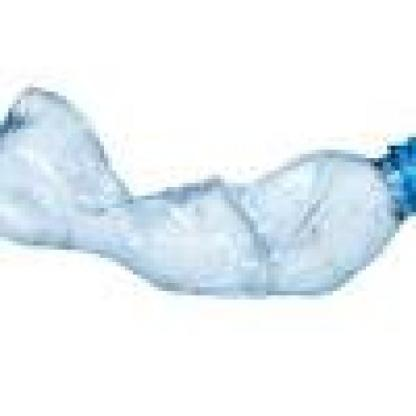Plastic Bottle: (0, 81, 416, 299)
